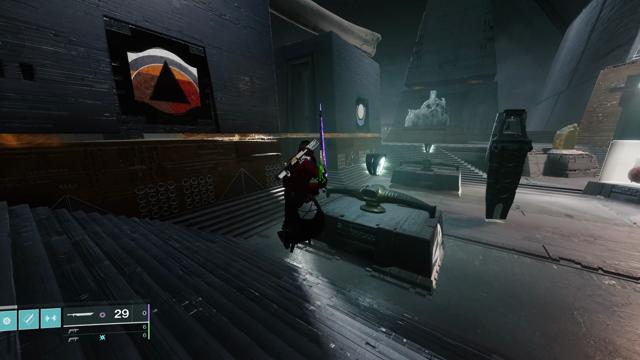pyramid: (128, 48, 202, 115)
traveler: (356, 104, 366, 126)
